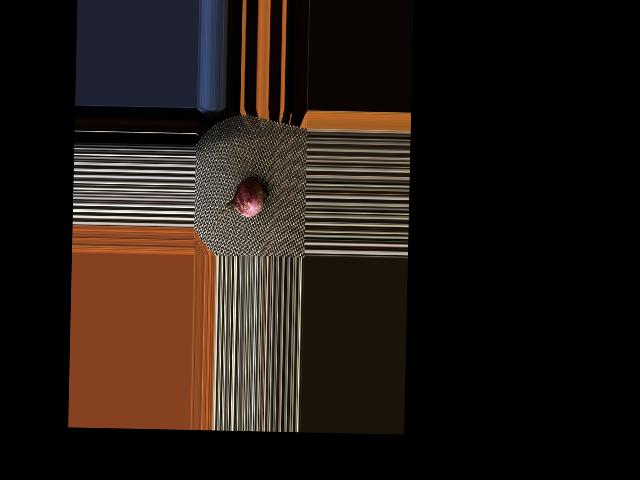beet: (212, 176, 269, 235)
